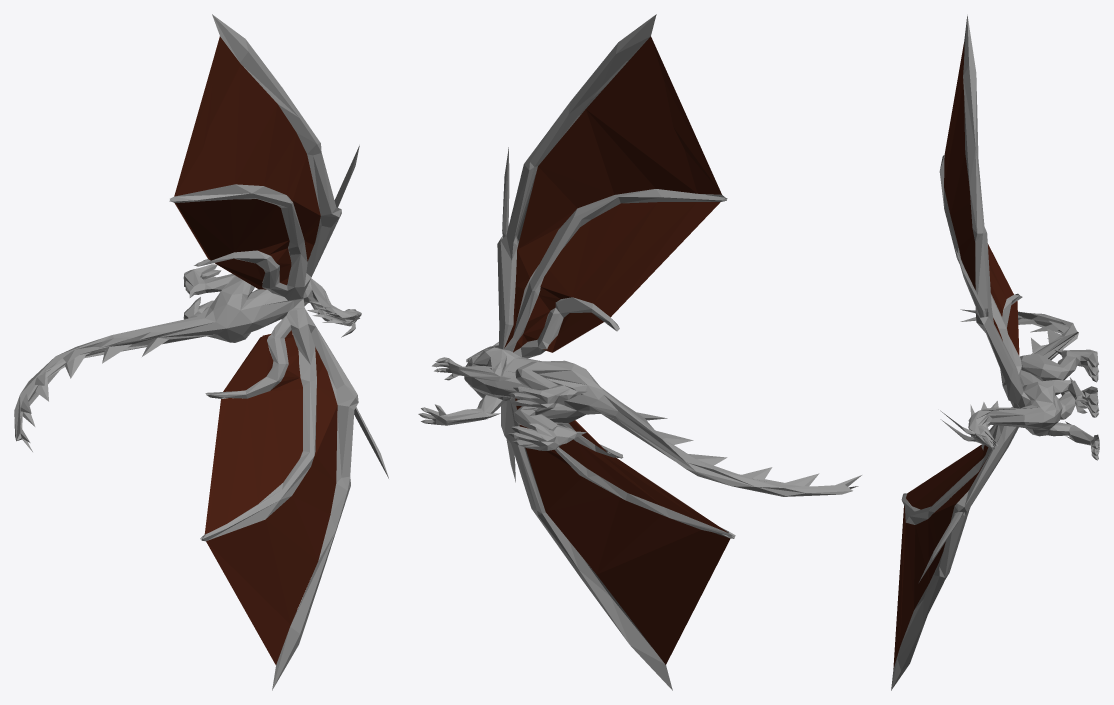
Rendered from Dragon_2.5_For_Animations_000302.obj.
3 renders of one model, left to right at view 1: azimuth 30°, elevation 25°; view 2: azimuth 150°, elevation 25°; view 3: azimuth 270°, elevation 25°, orthographic. The views are drawn at different scales.
Visible parts, largest first — view 1: Cube_Cube.004; view 2: Cube_Cube.004; view 3: Cube_Cube.004.
Boxes of the visible parts, bbox=[...] form: Cube_Cube.004: bbox=[14, 14, 388, 690]; Cube_Cube.004: bbox=[418, 14, 861, 690]; Cube_Cube.004: bbox=[891, 14, 1099, 690].
Size of the model in its own units: 84 by 150 by 42.7.
